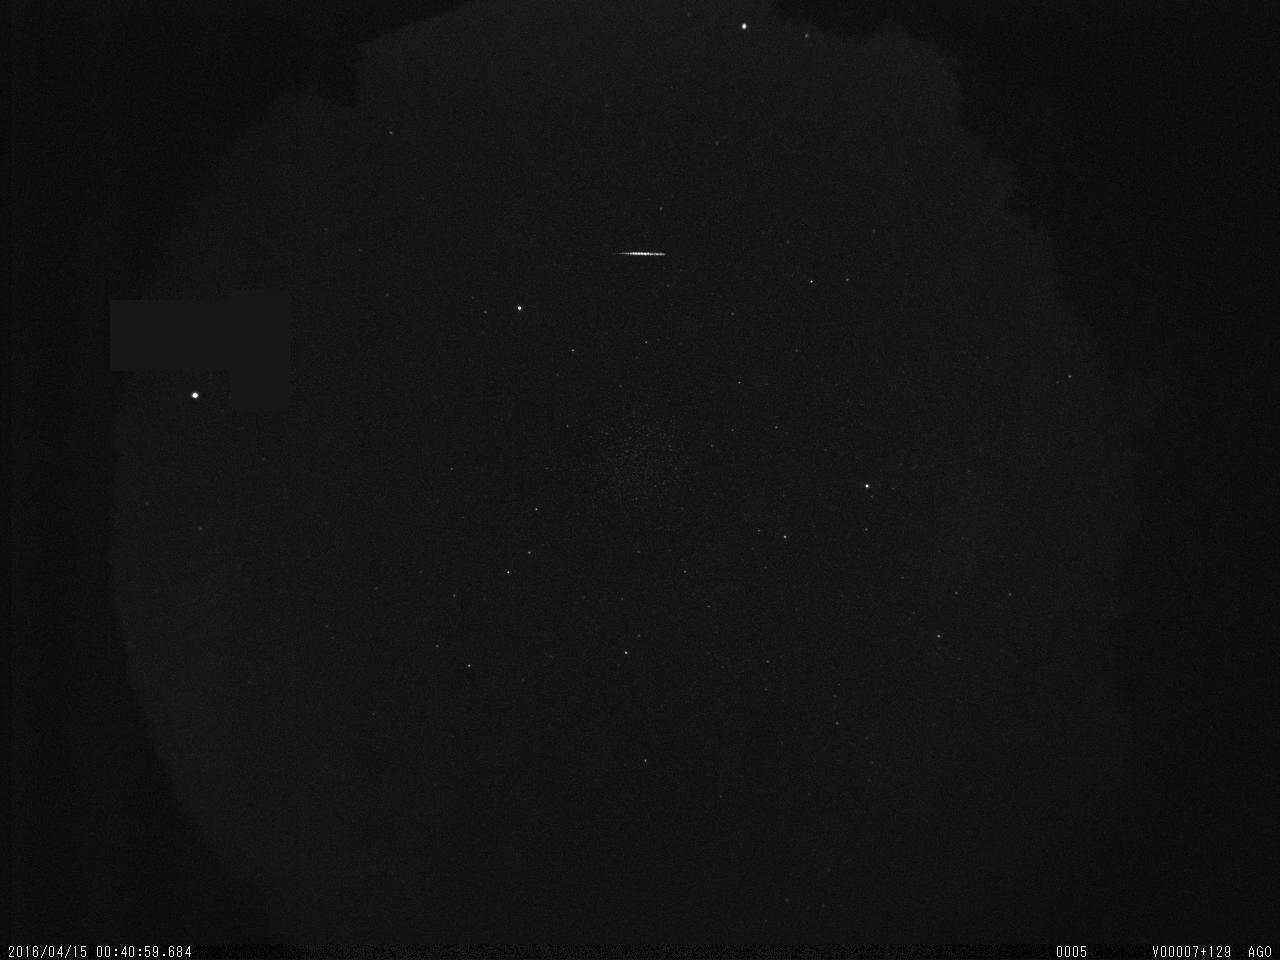Meteor: (614, 247, 667, 259)
